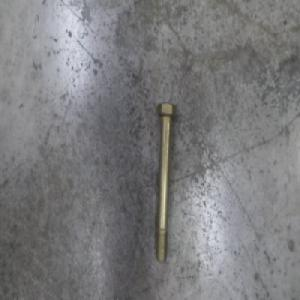Bolt: (155, 99, 176, 263)
